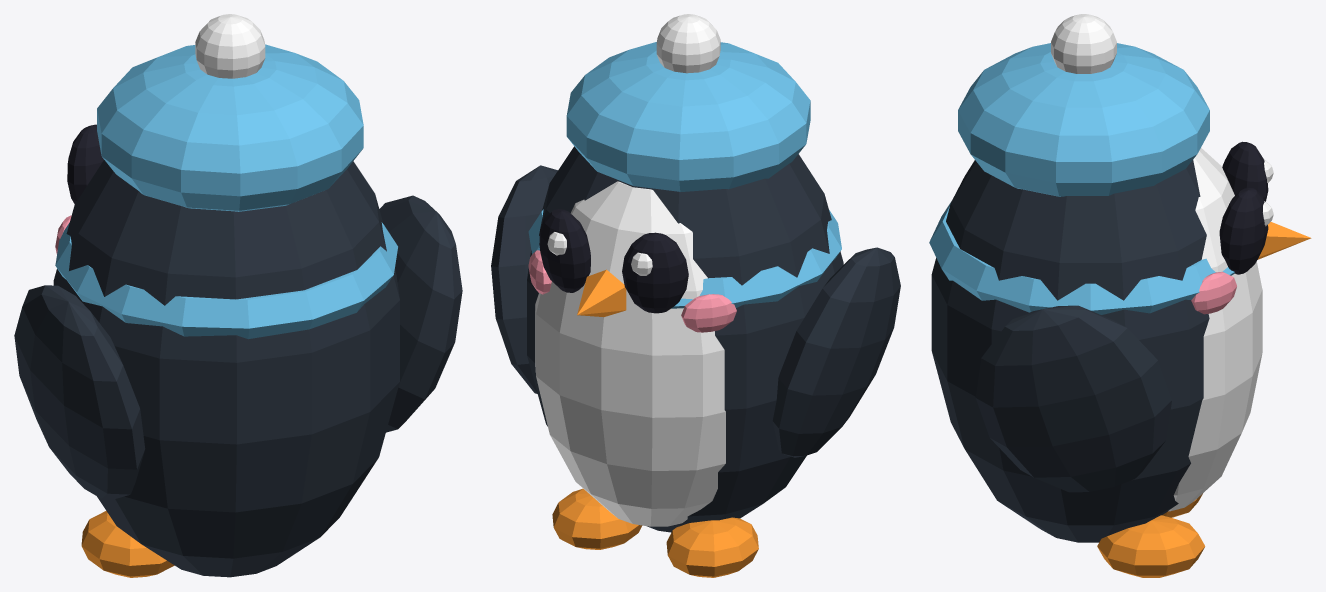
The model's file is IcePenguin.fbx.
3 views of the same model, side by side, from view 1: azimuth 30°, elevation 25°; view 2: azimuth 150°, elevation 25°; view 3: azimuth 270°, elevation 25° (orthographic). The views are drawn at different scales.
Visible parts, largest first — view 1: Pet_2B3440, Pet_6EC6F0, Pet_FFFFFF, Pet_FF9A2E, Pet_1E1E2A; view 2: Pet_2B3440, Pet_FFFFFF, Pet_6EC6F0, Pet_FF9A2E, Pet_1E1E2A, Pet_FF9AAE; view 3: Pet_2B3440, Pet_6EC6F0, Pet_FFFFFF, Pet_FF9A2E, Pet_1E1E2A, Pet_FF9AAE.
Part boxes in pixels (box(x1,y1,x2,y2)): Pet_2B3440: box(14, 160, 462, 577); Pet_6EC6F0: box(55, 44, 397, 339); Pet_FFFFFF: box(195, 14, 265, 78); Pet_FF9A2E: box(81, 511, 174, 577); Pet_1E1E2A: box(67, 124, 103, 204); Pet_2B3440: box(491, 146, 900, 532); Pet_FFFFFF: box(535, 14, 725, 526); Pet_6EC6F0: box(528, 42, 841, 308); Pet_FF9A2E: box(552, 269, 758, 577); Pet_1E1E2A: box(539, 209, 688, 313); Pet_FF9AAE: box(528, 250, 736, 332); Pet_2B3440: box(931, 160, 1209, 542); Pet_6EC6F0: box(929, 43, 1234, 314); Pet_FFFFFF: box(1051, 14, 1273, 511); Pet_FF9A2E: box(1097, 222, 1311, 577); Pet_1E1E2A: box(1219, 141, 1268, 274); Pet_FF9AAE: box(1191, 271, 1236, 314).
Bounding box in the file's own units: 1.28 × 1.73 × 1.14.
